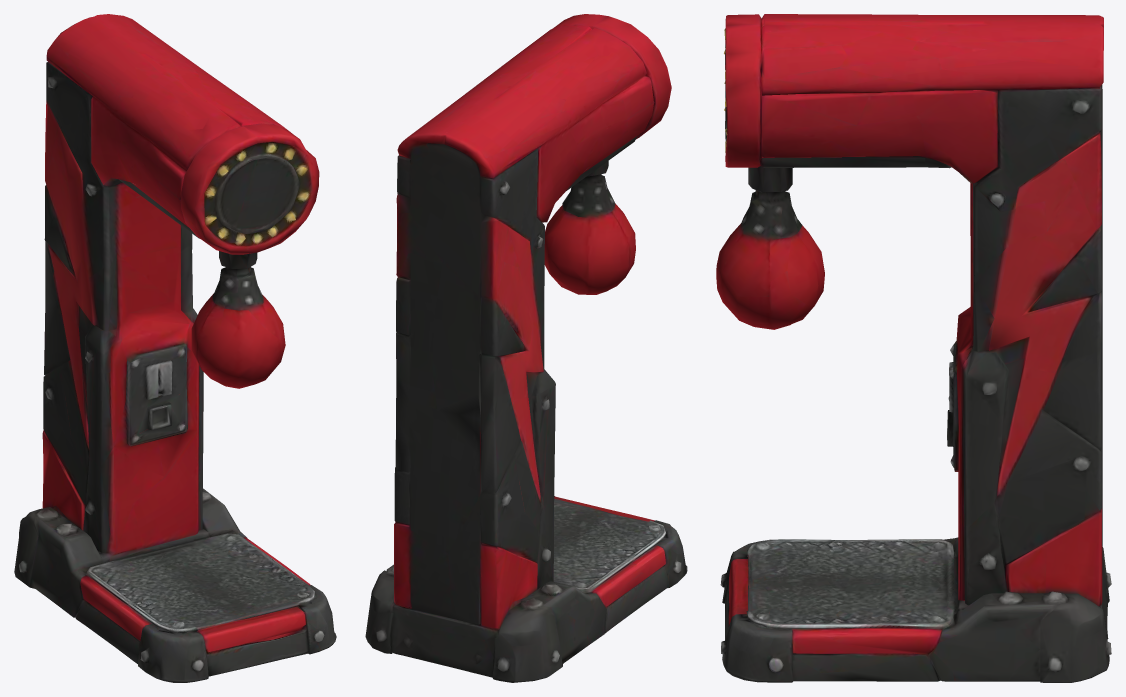
Rendered from punch.glb.
3 views of the same model, side by side, from view 1: azimuth 30°, elevation 25°; view 2: azimuth 150°, elevation 25°; view 3: azimuth 270°, elevation 25° (orthographic). The views are drawn at different scales.
Parts seen in each view (by area): view 1: tripo_node_d4020a5f-be9c-4e3a-8d01-80738d48cf26; view 2: tripo_node_d4020a5f-be9c-4e3a-8d01-80738d48cf26; view 3: tripo_node_d4020a5f-be9c-4e3a-8d01-80738d48cf26.
Boxes of the visible parts, bbox=[...] form: tripo_node_d4020a5f-be9c-4e3a-8d01-80738d48cf26: bbox=[14, 14, 336, 682]; tripo_node_d4020a5f-be9c-4e3a-8d01-80738d48cf26: bbox=[365, 14, 687, 682]; tripo_node_d4020a5f-be9c-4e3a-8d01-80738d48cf26: bbox=[716, 14, 1111, 682].
Size of the model in its own units: 0.3618 by 0.9819 by 0.5771.
Materials: 1 (1 with a texture image).
